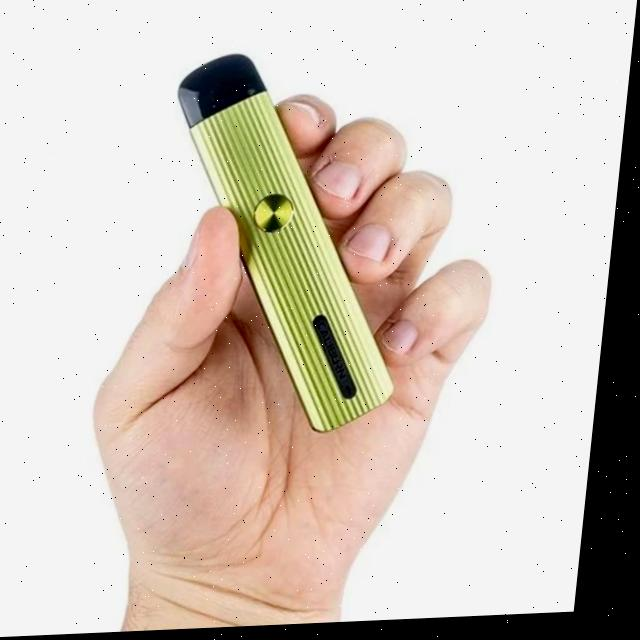vape: (151, 49, 435, 445)
